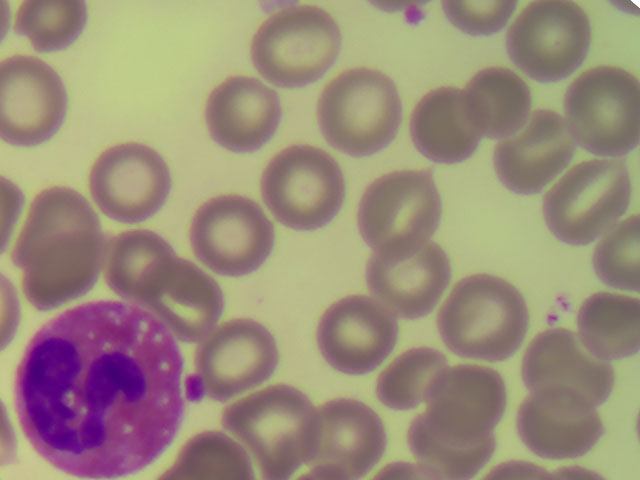Platelets: (400, 2, 425, 26)
RBC: (552, 294, 640, 381), (552, 63, 640, 150), (81, 136, 168, 223), (198, 78, 285, 165), (259, 8, 346, 95), (309, 63, 396, 150), (262, 143, 349, 230), (193, 190, 280, 277), (110, 216, 197, 303), (21, 230, 108, 317), (10, 179, 97, 266), (196, 310, 283, 397), (139, 253, 226, 340), (233, 381, 320, 468), (303, 393, 390, 480), (309, 290, 396, 377), (362, 237, 449, 324), (357, 175, 444, 262), (401, 86, 488, 173), (442, 58, 529, 145), (512, 1, 599, 88), (488, 106, 575, 193), (548, 161, 635, 248), (436, 273, 523, 360), (360, 331, 447, 418), (421, 356, 508, 443), (394, 393, 481, 480), (515, 379, 602, 466), (517, 323, 604, 410), (1, 56, 87, 143), (586, 223, 640, 291)
WBC: (16, 301, 200, 466)
